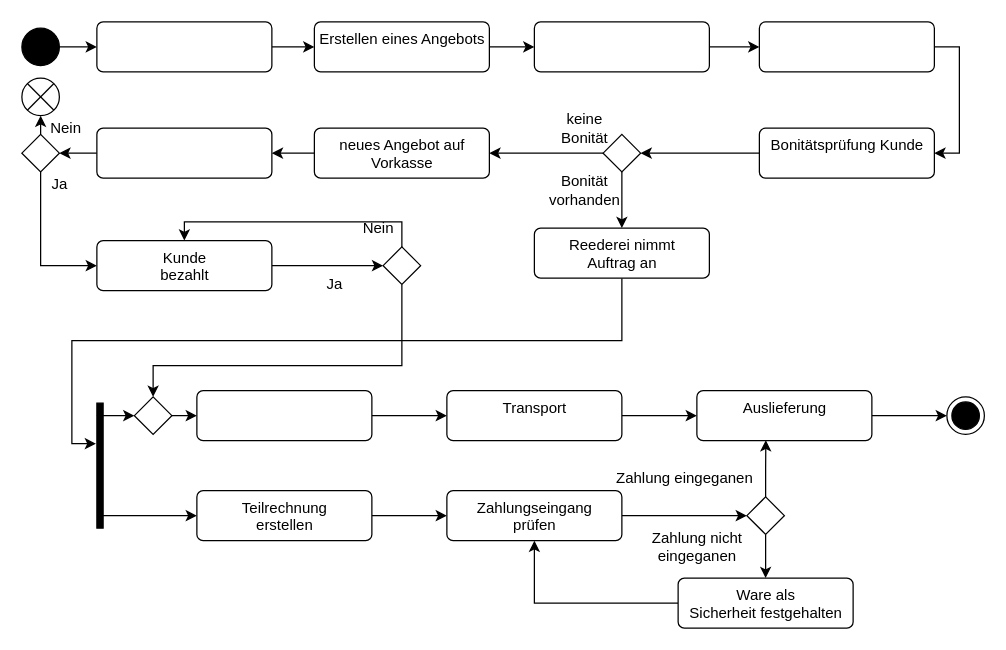
Some shapes in this 1006 by 650 pixel diagram are drawn without their labels. The shapes that lost their labels are listed below. From the top down, each one's centre as x and y in pixels, then its label:
the point at 184,46: Kundenanfrage geht ein
the point at 621,46: Angebot an den Kunden schicken
the point at 846,46: Kunde nimmt Angebot an
the point at 184,152: Nimmt Kunde neues Angebot an
the point at 284,415: Verladung
